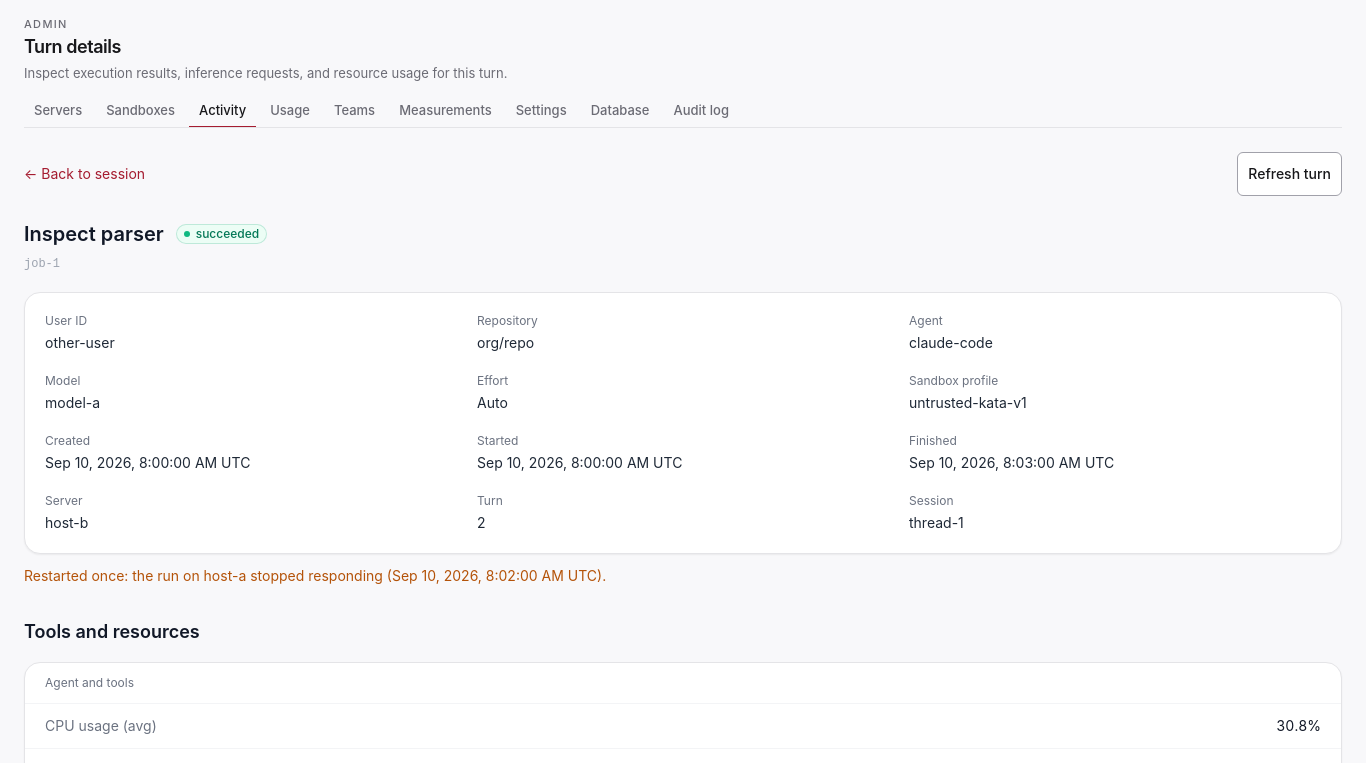
Test: admin run observation › reads the latest run, including one that starts after a refresh
The image size is (1366, 763).
Check: the text "host-b" is shown, box [45, 514, 88, 531]
Click the button "Refresh turn". click: (1290, 174)
box: [1237, 152, 1342, 196]
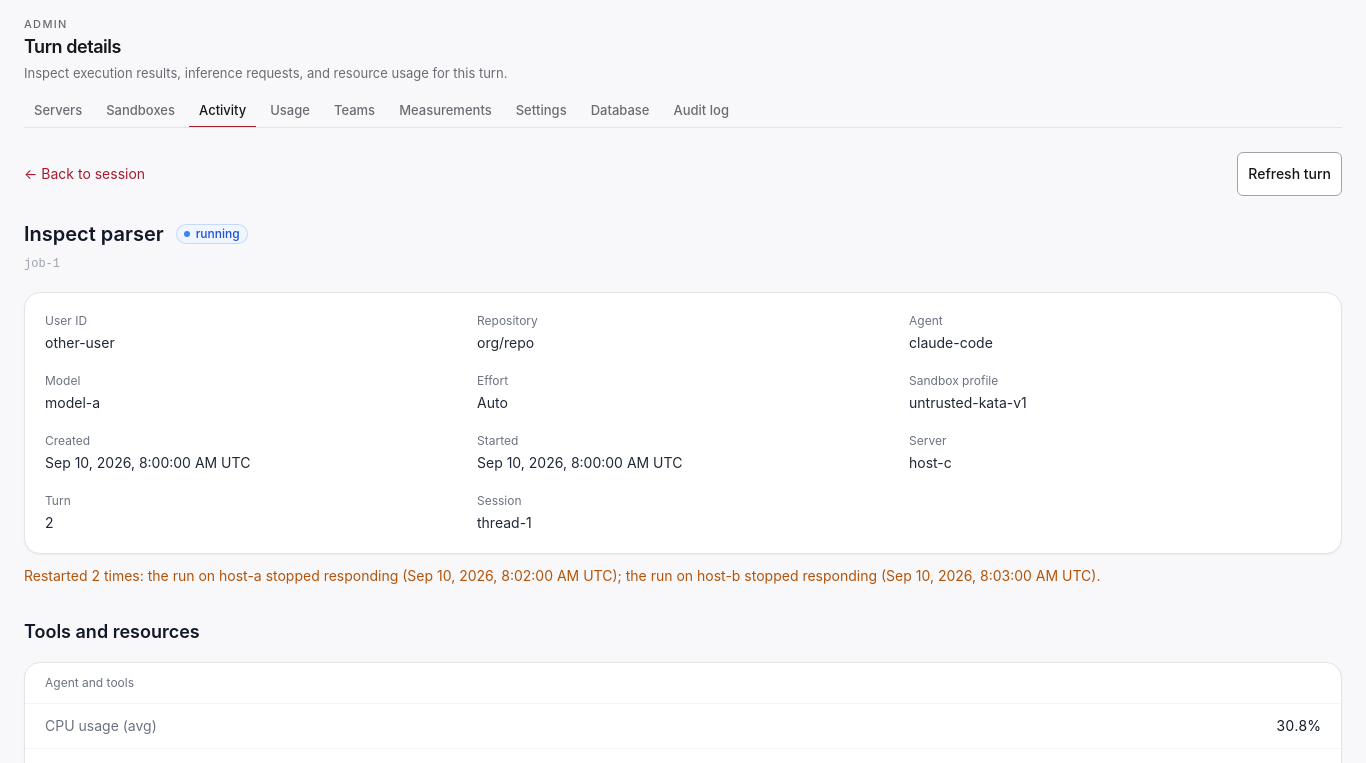
Check: the text "host-c" is shown, box [909, 454, 952, 471]
Check: the text "Finished" is gone
Check: the text "Restarted 2 times: the run on host-a stopped responding" is shown, box [24, 567, 1100, 584]
